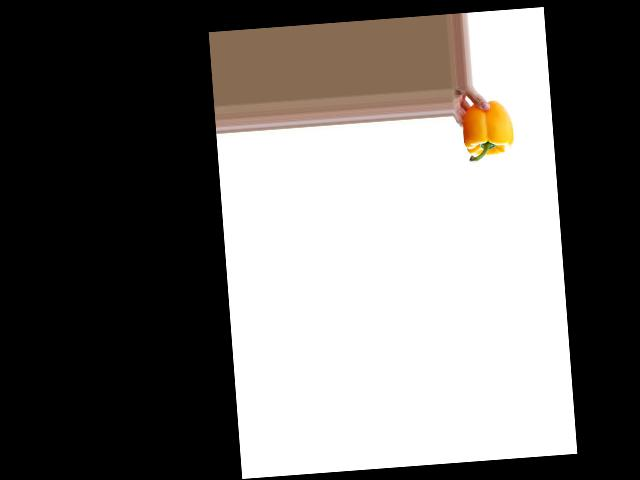bell_pepper: (461, 98, 516, 165)
